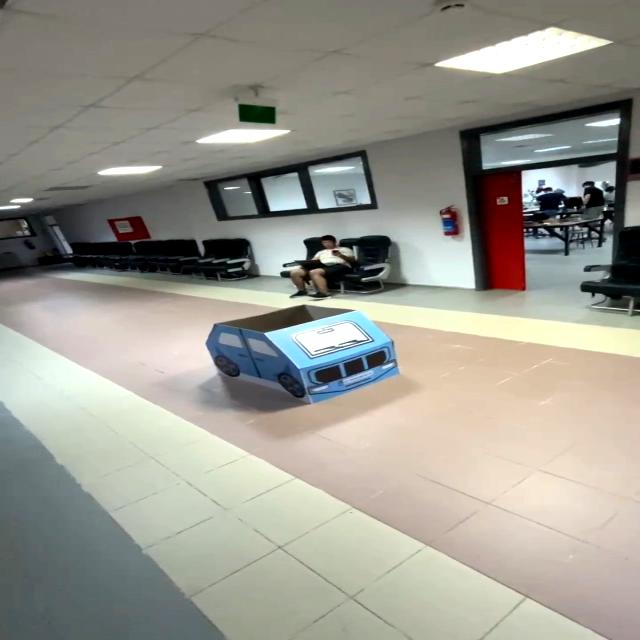blue_car: (194, 299, 425, 416)
